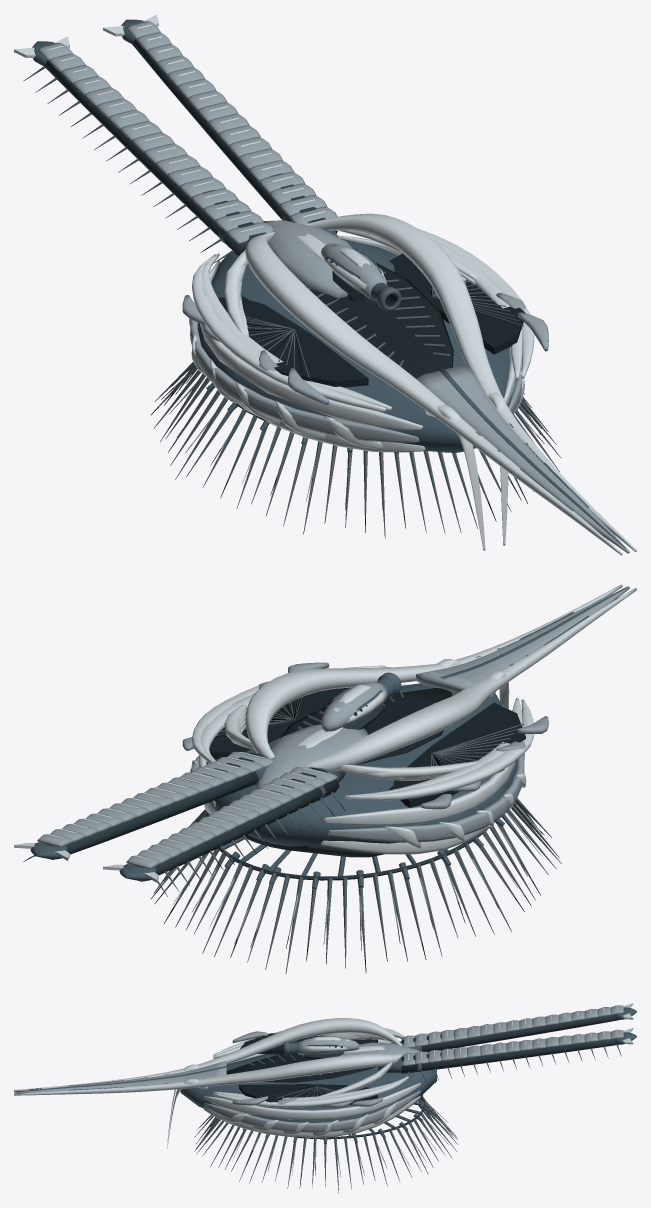
Rendered from boss_v2.glb.
3 renders of one model, top to bottom at view 1: azimuth 30°, elevation 25°; view 2: azimuth 150°, elevation 25°; view 3: azimuth 270°, elevation 25°, orthographic. The views are drawn at different scales.
Parts seen in each view (by area): view 1: Boss_V2_Runtime; view 2: Boss_V2_Runtime; view 3: Boss_V2_Runtime.
Part boxes in pixels (x1,y1,x2,y2): Boss_V2_Runtime: [14, 14, 636, 555]; Boss_V2_Runtime: [14, 584, 636, 974]; Boss_V2_Runtime: [14, 1003, 636, 1193].
Bounding box in the file's own units: 14.3 × 9.02 × 40.
Materials: 1 (1 with a texture image).
